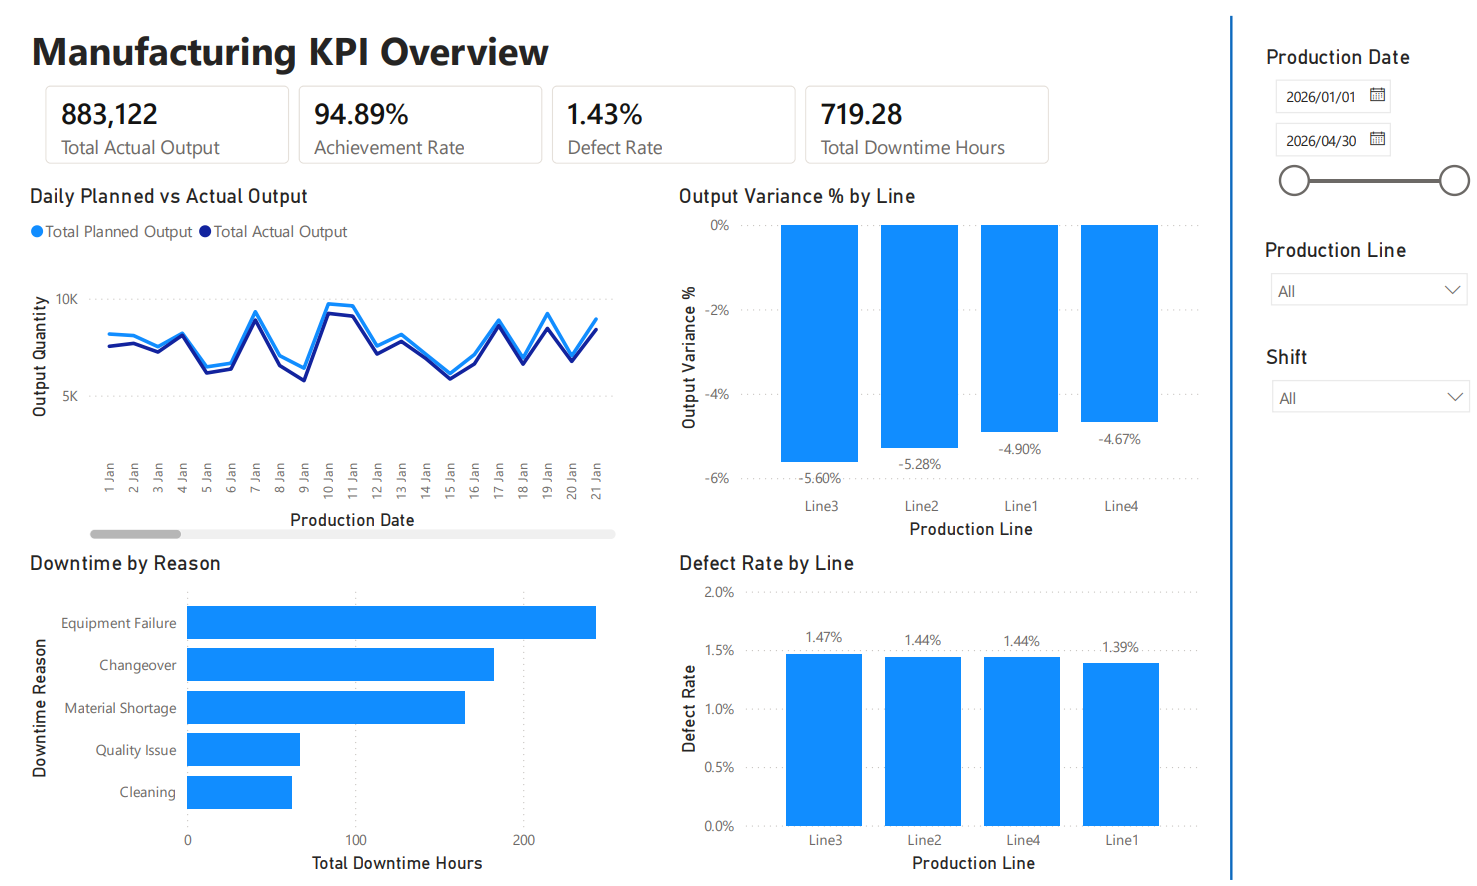

The page's visual inventory and layout, read from the dashboard file:
{"tool":"powerbi","page":{"name":"Manufacturing KPI Overview","canvas":[1280,720],"ordinal":0},"visuals":[{"type":"cardVisual","fields":{"Data":["Manufacturing Operations.Total Actual Output","Manufacturing Operations.Achievement Rate","Manufacturing Operations.Defect Rate","Manufacturing Operations.Total Downtime Hours"]},"box":[46,46,873,88.9],"z":0},{"type":"lineChart","title":"Daily Planned vs Actual Output","fields":{"Y":["Manufacturing Operations.Total Planned Output","Manufacturing Operations.Total Actual Output"],"Category":["Manufacturing Operations.X_Axis_English"]},"box":[45,140,498.2,299.8],"z":1000},{"type":"clusteredColumnChart","title":"Output Variance % by Line","fields":{"Category":["Manufacturing Operations.line"],"Y":["Manufacturing Operations.Output Variance %"]},"box":[585.6,140,445.2,299.8],"z":2000},{"type":"clusteredBarChart","title":"Downtime by Reason","fields":{"Category":["Manufacturing Operations.downtime_reason"],"Y":["Manufacturing Operations.Total Downtime Hours"]},"box":[45,445,500,273],"z":3000},{"type":"clusteredColumnChart","title":"Defect Rate by Line","fields":{"Category":["Manufacturing Operations.line"],"Y":["Manufacturing Operations.Defect Rate"]},"box":[586,445,445,273],"z":4000},{"type":"slicer","title":"Production Date","fields":{"Values":["Manufacturing Operations.date"]},"box":[1075.1,24.2,183.2,160.5],"z":5000},{"type":"slicer","title":"Production Line","fields":{"Values":["Manufacturing Operations.line"]},"box":[1073.6,184.7,184.7,59.1],"z":6000},{"type":"slicer","title":"Shift","fields":{"Values":["Manufacturing Operations.shift"]},"box":[1075.1,274.1,184.7,68.1],"z":7000},{"type":"shape","box":[1034.2,0,33.3,719.2],"z":8000},{"type":"textbox","box":[46,0,539.7,57.1],"z":9000}]}

Visuals, with their boxes on the page's 1280x720 design canvas (x1, y1, x2, y2). These are canvas units, not pixel positions in the 1477x886 screenshot, which may show the page scaled, cropped or inside an application window:
cardVisual - Manufacturing Operations.Total Actual Output x Manufacturing Operations.Achievement Rate: 46/46/919/135
"Daily Planned vs Actual Output" lineChart: 45/140/543/440
"Output Variance % by Line" clusteredColumnChart: 586/140/1031/440
"Downtime by Reason" clusteredBarChart: 45/445/545/718
"Defect Rate by Line" clusteredColumnChart: 586/445/1031/718
"Production Date" slicer: 1075/24/1258/185
"Production Line" slicer: 1074/185/1258/244
"Shift" slicer: 1075/274/1260/342
shape: 1034/0/1068/719
textbox: 46/0/586/57
